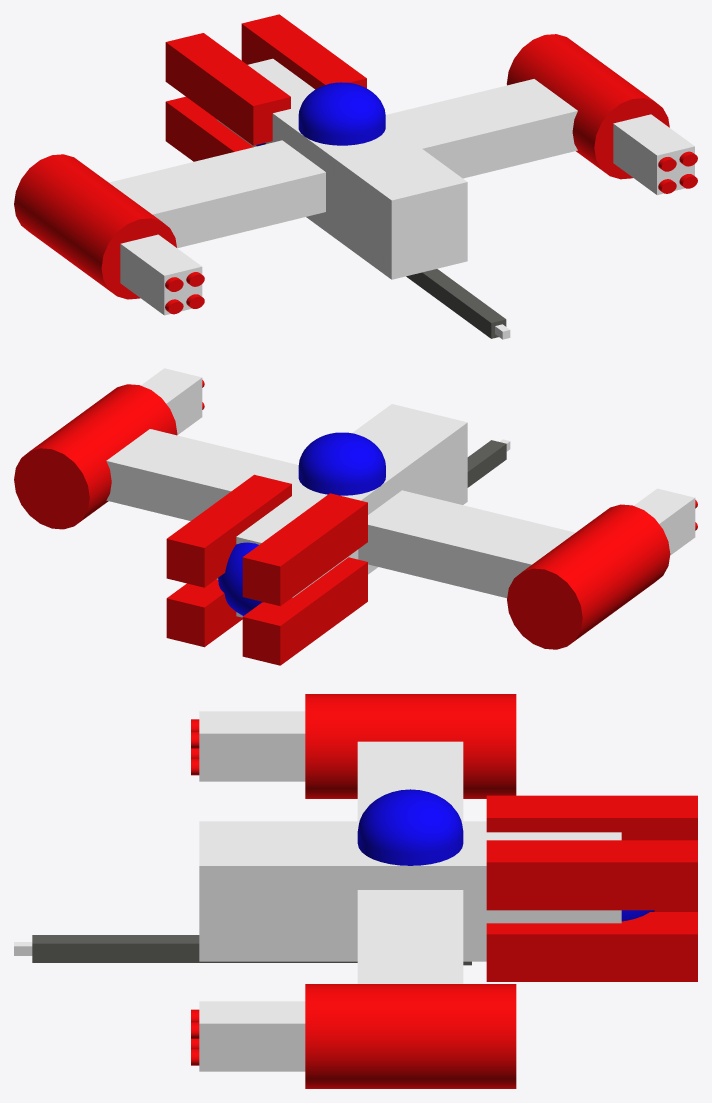
File: Starship.fbx
3 renders of one model, top to bottom at view 1: azimuth 30°, elevation 25°; view 2: azimuth 150°, elevation 25°; view 3: azimuth 270°, elevation 25°, orthographic. The views are drawn at different scales.
Visible parts, largest first — view 1: Wings, Body, WingBase_1_, WingBase_0_, Engine_0_, Engine_1_, Cabin, RWeapon, LWeapon, Engine_2_, MainWeapon; view 2: Wings, WingBase_1_, WingBase_0_, Body, Engine_0_, Engine_2_, Engine_1_, Cabin, Engine_3_, RWeapon, LWeapon, Capsule (+1 smaller); view 3: Body, WingBase_0_, Wings, WingBase_1_, Engine_1_, Engine_3_, Engine_0_, RWeapon, LWeapon, Cabin, MainWeapon.
Boxes of the visible parts, x1=… form: Wings: x1=109, y1=79, x2=577, y2=248; Body: x1=216, y1=58, x2=467, y2=279; WingBase_1_: x1=14, y1=154, x2=176, y2=299; WingBase_0_: x1=506, y1=34, x2=669, y2=179; Engine_0_: x1=165, y1=33, x2=290, y2=145; Engine_1_: x1=241, y1=14, x2=366, y2=89; Cabin: x1=298, y1=82, x2=385, y2=145; RWeapon: x1=120, y1=234, x2=202, y2=315; LWeapon: x1=613, y1=114, x2=694, y2=195; Engine_2_: x1=165, y1=96, x2=253, y2=161; MainWeapon: x1=406, y1=269, x2=506, y2=338; Wings: x1=106, y1=429, x2=575, y2=598; WingBase_1_: x1=507, y1=504, x2=670, y2=649; WingBase_0_: x1=14, y1=384, x2=177, y2=529; Body: x1=216, y1=404, x2=467, y2=617; Engine_0_: x1=242, y1=493, x2=367, y2=606; Engine_2_: x1=242, y1=557, x2=367, y2=665; Engine_1_: x1=166, y1=474, x2=291, y2=587; Cabin: x1=298, y1=432, x2=385, y2=495; Engine_3_: x1=166, y1=579, x2=242, y2=647; RWeapon: x1=634, y1=488, x2=695, y2=555; LWeapon: x1=141, y1=368, x2=202, y2=434; Capsule: x1=218, y1=542, x2=263, y2=615; Body: x1=199, y1=821, x2=621, y2=961; WingBase_0_: x1=305, y1=984, x2=516, y2=1088; Wings: x1=357, y1=741, x2=463, y2=983; WingBase_1_: x1=305, y1=694, x2=516, y2=798; Engine_1_: x1=486, y1=840, x2=697, y2=910; Engine_3_: x1=486, y1=912, x2=697, y2=981; Engine_0_: x1=486, y1=795, x2=697, y2=840; RWeapon: x1=199, y1=711, x2=305, y2=781; LWeapon: x1=199, y1=1001, x2=305, y2=1071; Cabin: x1=357, y1=789, x2=463, y2=865; MainWeapon: x1=32, y1=935, x2=357, y2=962.
Size of the model in its own units: 750 by 170 by 648.
